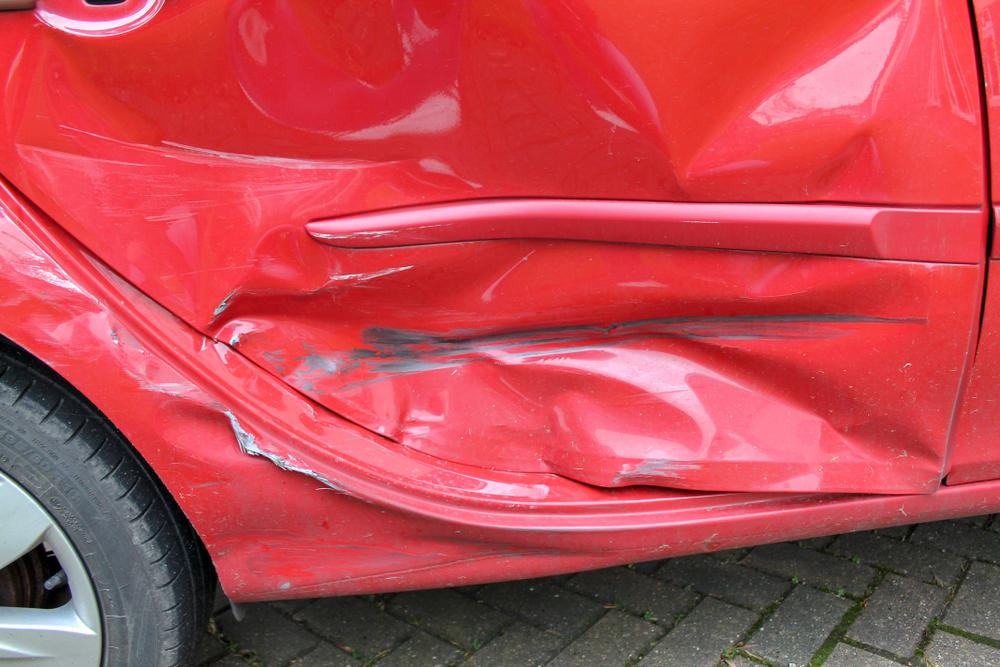dent: (13, 0, 933, 495), (0, 233, 432, 577)
